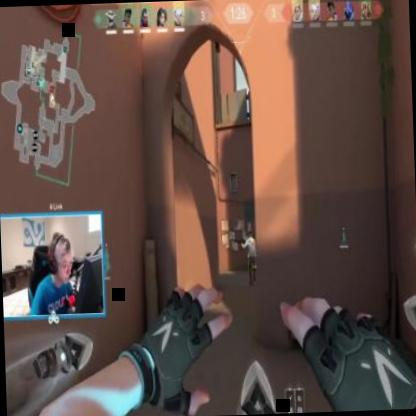enemy: (242, 228, 258, 284)
enemy_head: (248, 230, 252, 239)
